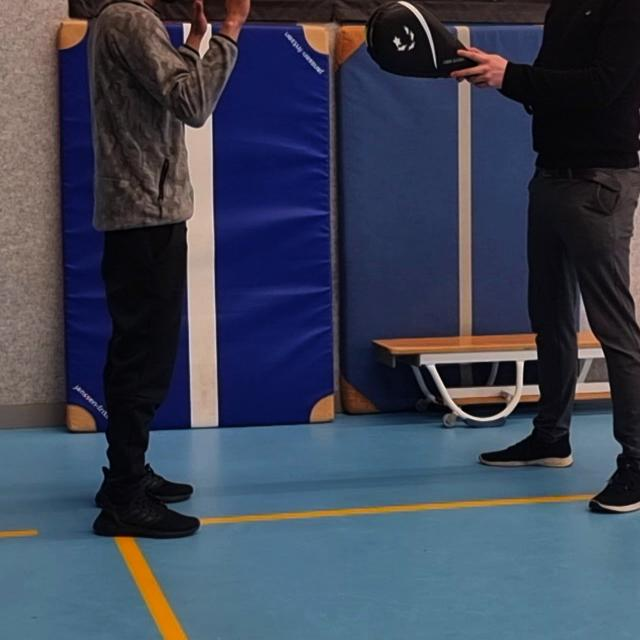paddle: (367, 1, 482, 78)
